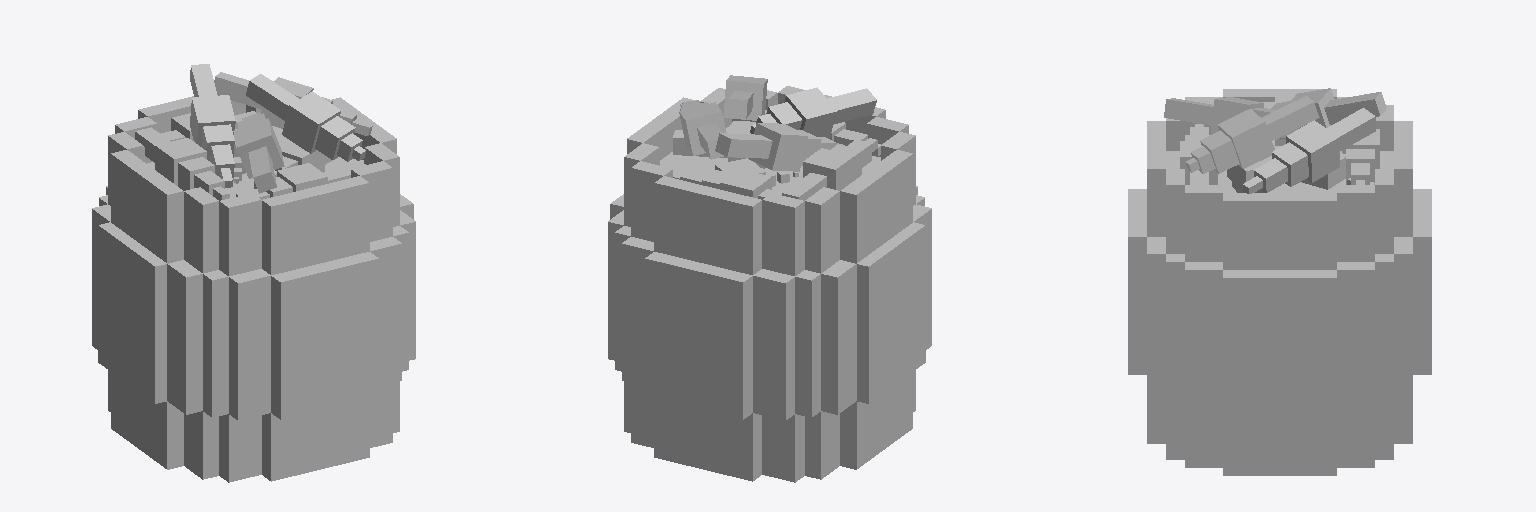
File: 1752_carrot_barrel.obj
The picture shows the model from 3 angles: view 1: azimuth 30°, elevation 25°; view 2: azimuth 150°, elevation 25°; view 3: azimuth 270°, elevation 25°; orthographic projection.
Visible parts, largest first — view 1: Mid2, Mid4, Top1, Bot1, Mid7, Top10, Mid13, Bot10, Mid12, Mid8, Top12, Top11 (+28 smaller); view 2: Mid1, Mid4, Top7, Bot7, Mid6, Top10, Mid15, Bot10, Mid10, Mid5, Top8, Top9 (+25 smaller); view 3: Mid3, Top4, Bot4, Mid14, Mid16, Mid1, Mid2, Top3, Top5, Mid5, Mid8, Mid9 (+28 smaller).
Part boxes in pixels (x1,y1,x2,y2): Mid2: (271,252,378,419); Mid4: (98,222,166,403); Top1: (262,176,369,274); Bot1: (262,398,369,481); Mid7: (229,269,270,420); Top10: (111,150,183,263); Mid13: (167,260,202,414); Bot10: (111,372,183,469); Mid12: (203,270,228,417); Mid8: (370,237,401,386); Top12: (219,193,261,275); Top11: (184,187,218,273); Mid1: (645,252,752,419); Mid4: (857,222,925,403); Top7: (654,176,761,274); Bot7: (654,398,761,481); Mid6: (753,269,794,420); Top10: (840,150,912,263); Mid15: (821,260,856,414); Bot10: (840,372,912,469); Mid10: (795,270,820,417); Mid5: (622,237,653,386); Top8: (762,193,804,275); Top9: (805,187,839,273); Mid3: (1223,270,1336,414); Top4: (1223,193,1336,269); Bot4: (1223,415,1336,475); Mid14: (1185,262,1222,406); Mid16: (1337,262,1374,406); Mid1: (1413,189,1431,374); Mid2: (1128,189,1146,374); Top3: (1185,185,1222,261); Top5: (1337,185,1374,261); Mid5: (1394,237,1412,390); Mid8: (1147,237,1165,390); Mid9: (1375,254,1393,398).
Size of the model in its own units: 0.9844 by 1.2 by 1.